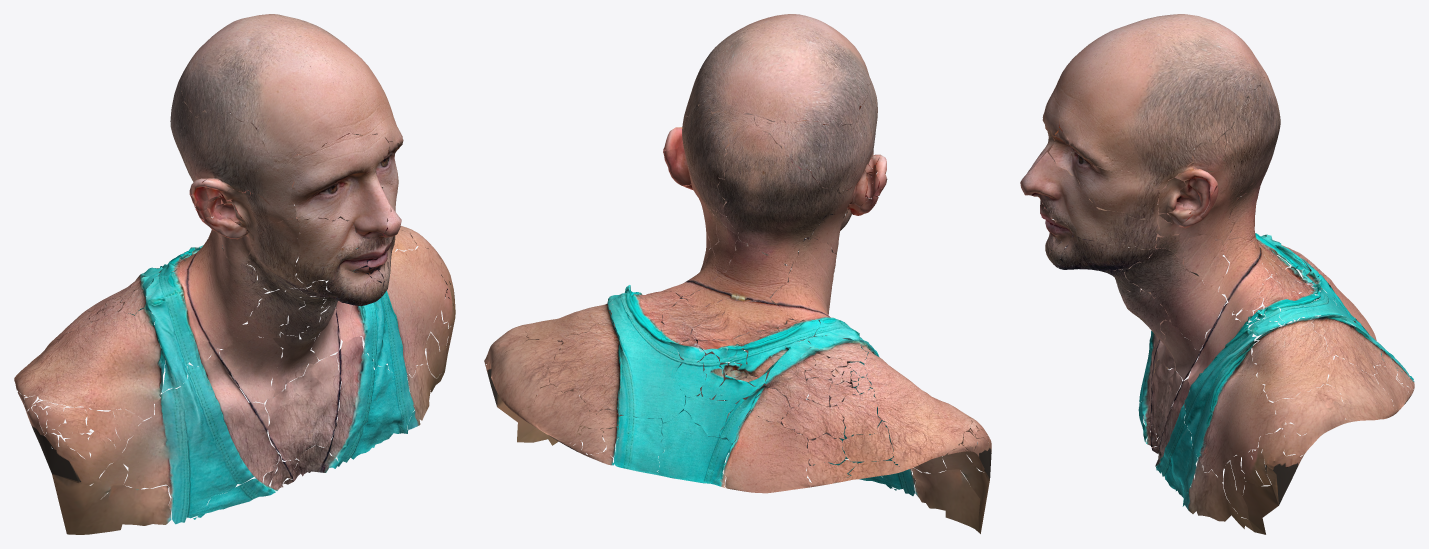
The model's file is man_head_2.glb.
3 renders of one model, left to right at view 1: azimuth 30°, elevation 25°; view 2: azimuth 150°, elevation 25°; view 3: azimuth 270°, elevation 25°, orthographic. The views are drawn at different scales.
Visible parts, largest first — view 1: man_head_3; view 2: man_head_3; view 3: man_head_3.
Part boxes in pixels (x1=…): man_head_3: x1=14, y1=14, x2=455, y2=534; man_head_3: x1=484, y1=14, x2=991, y2=533; man_head_3: x1=1020, y1=14, x2=1414, y2=534.
Size of the model in its own units: 1.06 by 1.01 by 0.8315.
1 material, 1 textured.
